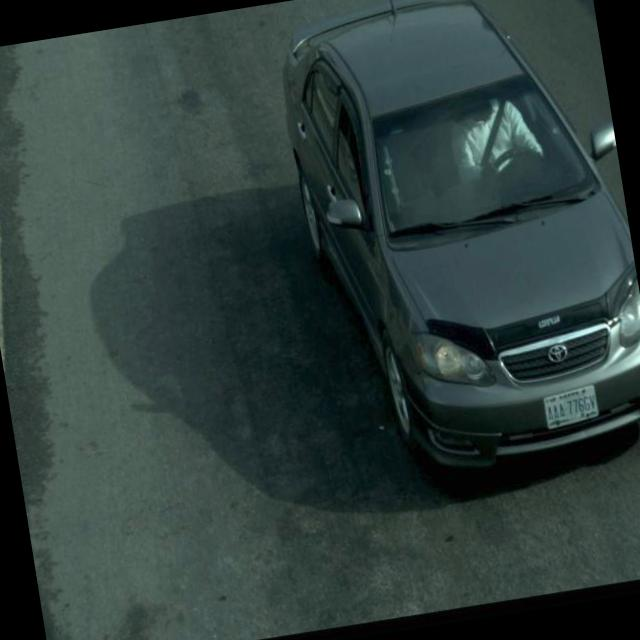person_with_seatbelt: (450, 77, 554, 216)
